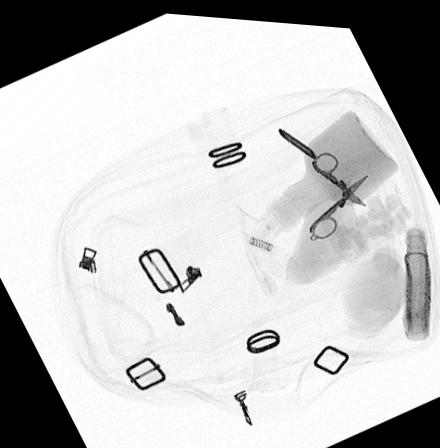Scissors: (307, 143, 368, 237)
